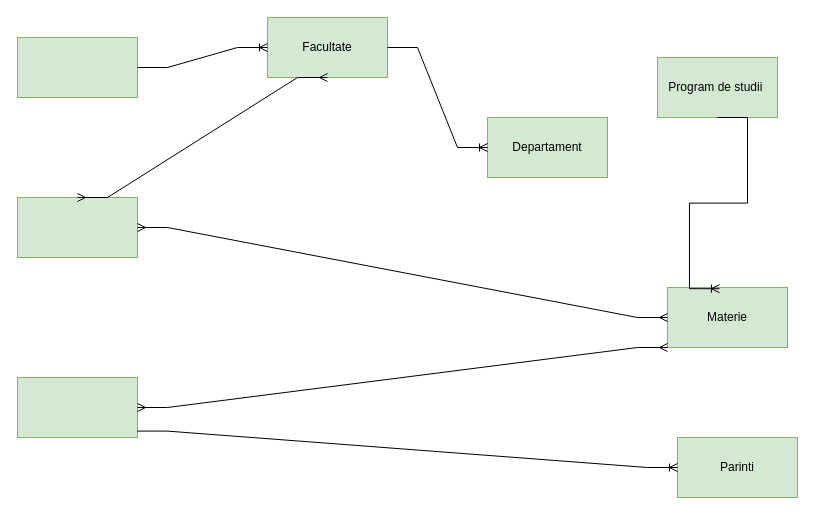
Some shapes in this 815 by 515 pixel diagram are drawn without their labels. Here are the shapes that lost their labels. From the top down, the box of each, then its label:
(16, 36, 138, 98): Universitate
(16, 196, 138, 258): Profesori
(16, 376, 138, 438): Studenti
